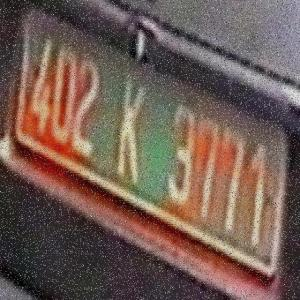Plate: (8, 0, 292, 292)
